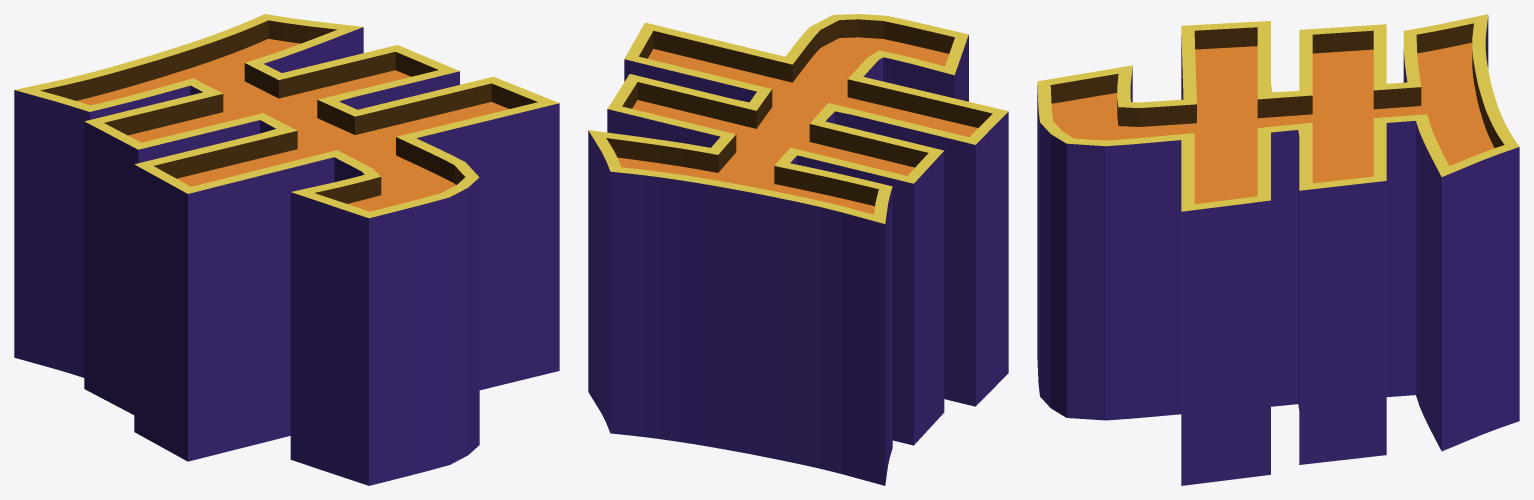
3 renders of one model, left to right at view 1: azimuth 30°, elevation 25°; view 2: azimuth 150°, elevation 25°; view 3: azimuth 270°, elevation 25°, orthographic. The views are drawn at different scales.
Visible parts, largest first — view 1: na; view 2: na; view 3: na.
Boxes of the visible parts, left/top/right/bottom form: na: left=14, top=14, right=559, bottom=485; na: left=588, top=14, right=1008, bottom=485; na: left=1037, top=14, right=1519, bottom=485.
Bounding box in the file's own units: 0.213 × 0.1378 × 0.2196.
